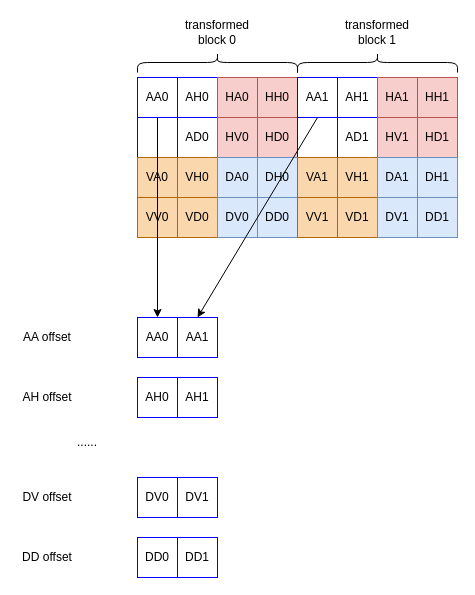
Image size: 475x595. Some labels were removed from this diagram. The shapes that lost their labels are listed below. From the top down, each one's centre as x and y in pixels, then its label:
[157,137]: AV0
[317,137]: AV1
